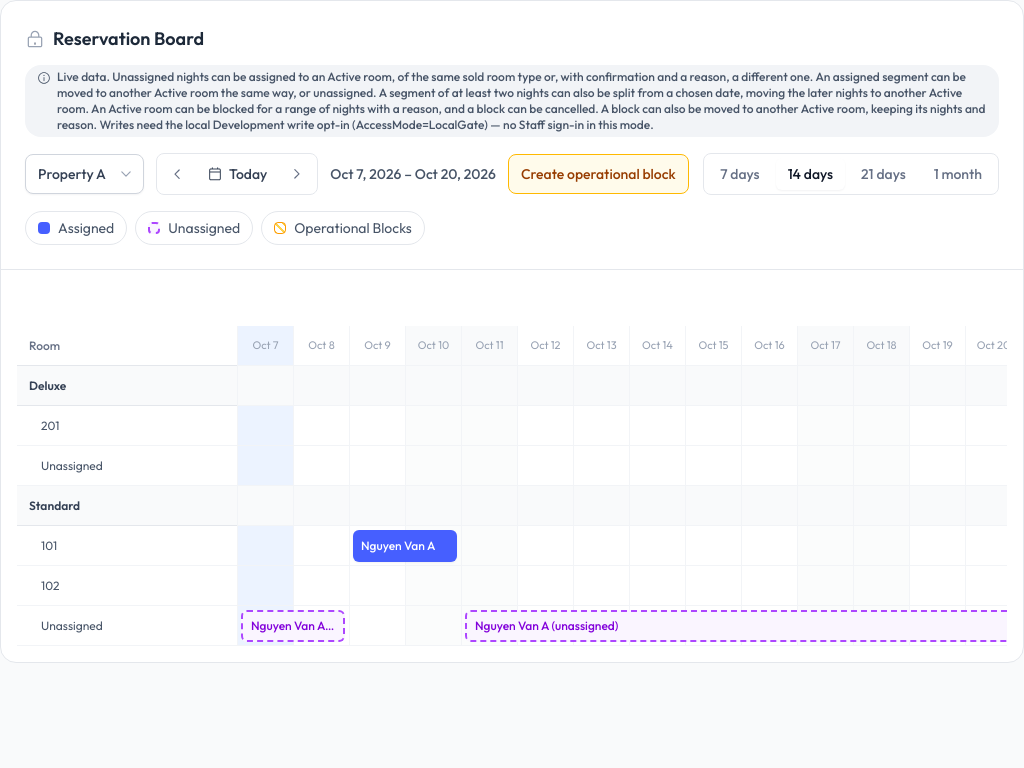
Scenario: ReservationBoard — same-RoomType assignment (PMS-CAL-001.2-CP03A) › sends one create with the server range verbatim, then re-reads the board; the new bar comes only from that re-read
This screenshot has width=1024, height=768.
Click the 1st button "Nguyen Van A (unassigned)".
click(293, 626)  # box [241,610,345,642]
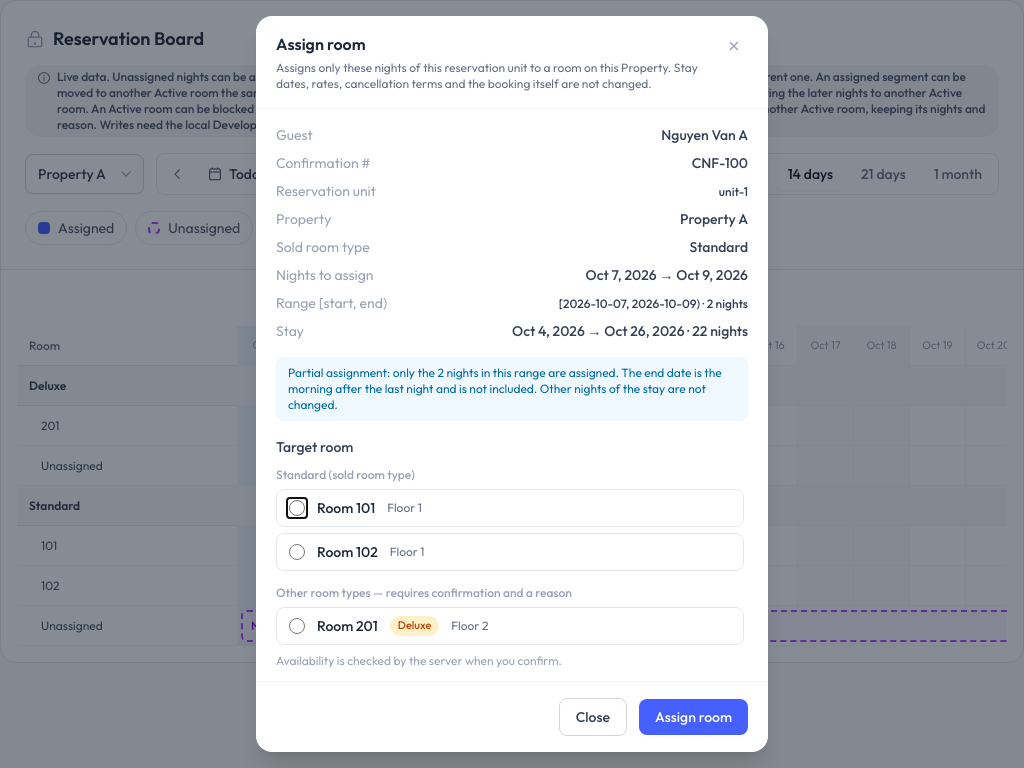
Click the radio button labelled "Room 102 Floor 1".
click(297, 552)  # box [289,544,305,560]
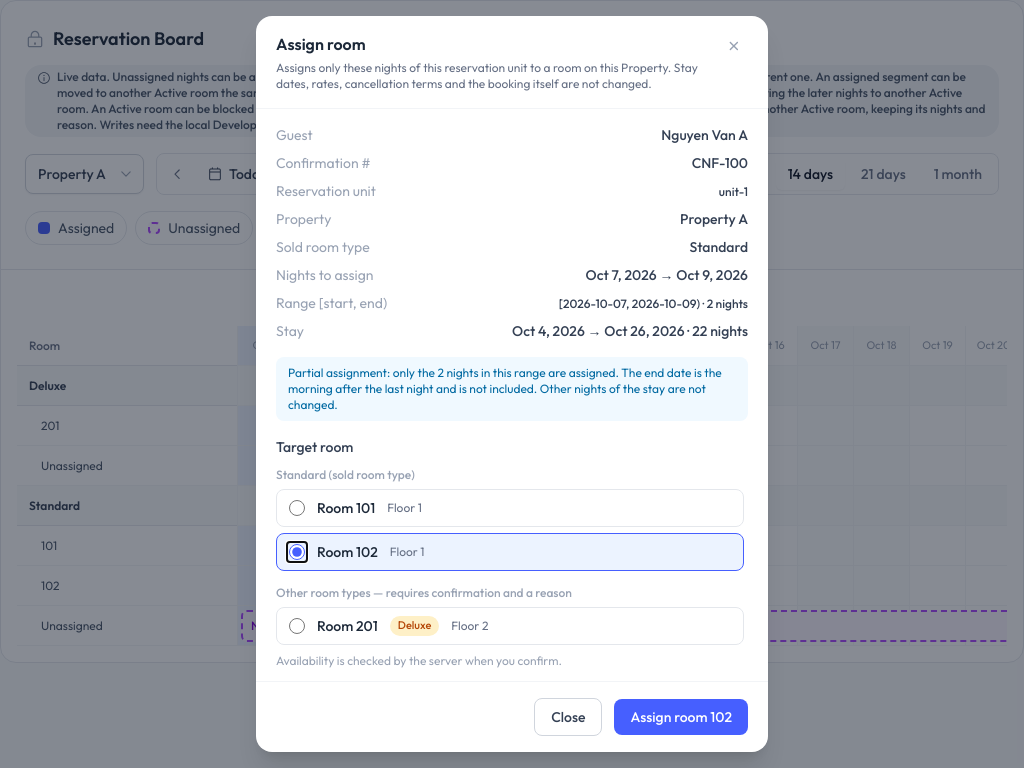
Click the button "Assign room 102".
click(681, 717)  # box [614,699,748,735]
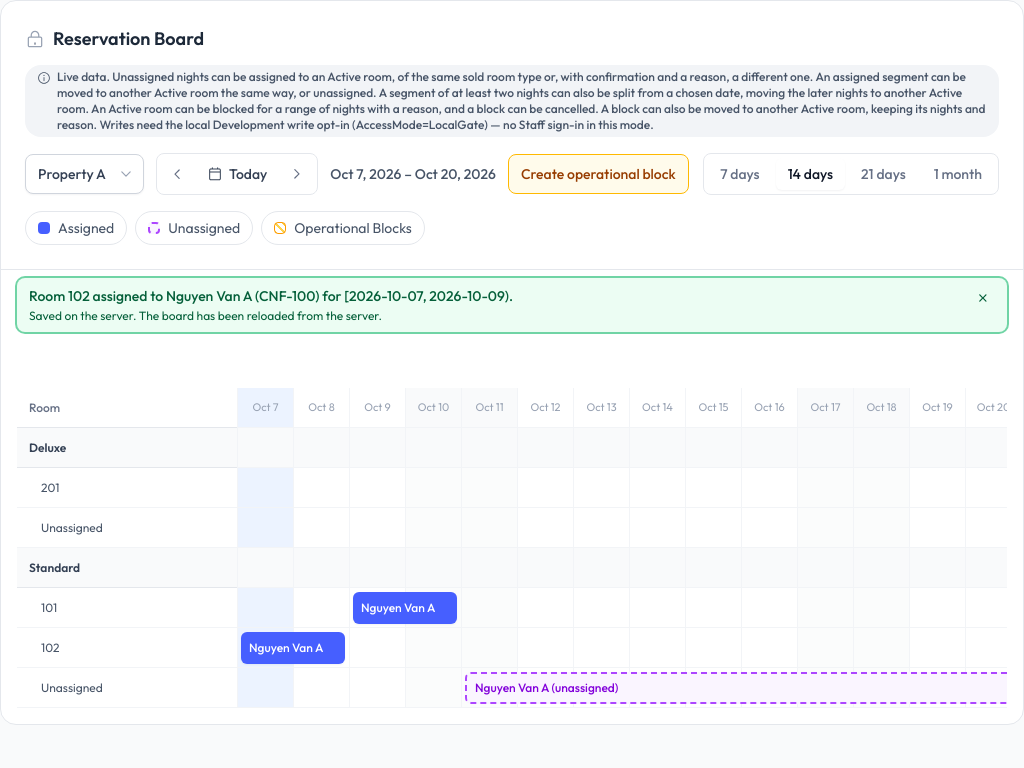
Expected: the text "The board has been reloaded from the server" is shown, [29,308,382,323]
Expected: the heading "Assign room" is gone
Expected: the text "Room 102 assigned" is shown, [29,287,513,305]
